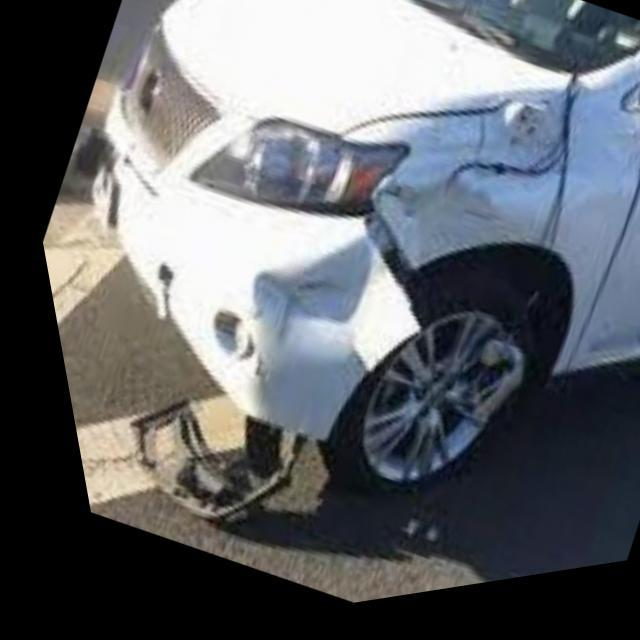dislocated part: (194, 92, 577, 460)
